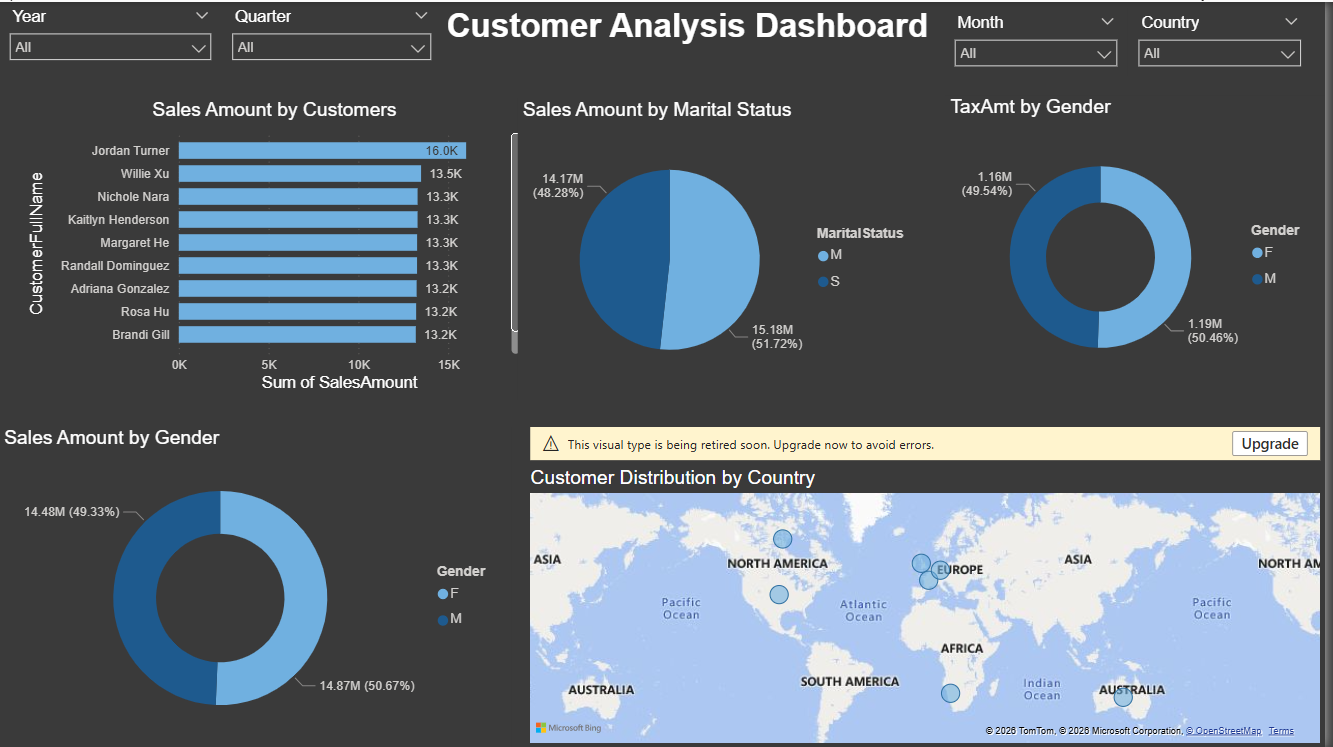

This screenshot's page, from the dashboard's own definition file:
{"tool":"powerbi","page":{"name":"Customer analysis Dashboard","canvas":[1280,720],"ordinal":1},"visuals":[{"type":"barChart","title":"Sales Amount by Customers","fields":{"Category":["Sales.CustomerFullName"],"Y":["Sum(Sales.SalesAmount)"]},"box":[24.4,93.1,483.7,288.4],"z":0},{"type":"donutChart","title":"Sales Amount by Gender","fields":{"Y":["Sum(Sales.SalesAmount)"],"Category":["Dimcustomer.Gender"]},"box":[0,410.5,494.4,309.8],"z":1000},{"type":"pieChart","title":" Sales Amount by Marital Status","fields":{"Y":["Sum(Sales.SalesAmount)"],"Category":["Dimcustomer.MaritalStatus"]},"box":[500.5,93.1,393.7,291.5],"z":2000},{"type":"map","title":"Customer Distribution by Country","fields":{"Category":["DimSalesTerritory.SalesTerritoryCountry"],"Size":["CountNonNull(Dimcustomer.CustomerKey)"]},"box":[508.2,410.5,772.2,309.8],"z":3000},{"type":"textbox","box":[427.3,0,485.3,48.8],"z":4000},{"type":"donutChart","title":" TaxAmt by Gender","fields":{"Category":["Dimcustomer.Gender"],"Y":["Sum(Sales.TaxAmt)"]},"box":[913,90,367,291],"z":5000},{"type":"slicer","fields":{"Values":["Sales.YearMonth.Variation.Date Hierarchy.Year"]},"box":[0,0,215.2,71.7],"z":6000},{"type":"slicer","fields":{"Values":["Sales.OrderDate.Variation.Date Hierarchy.Quarter"]},"box":[215.2,0,212.1,71.7],"z":7000},{"type":"slicer","fields":{"Values":["Sales.OrderDate.Variation.Date Hierarchy.Month"]},"box":[912.5,6.1,177,61],"z":8000},{"type":"slicer","fields":{"Values":["DimSalesTerritory.SalesTerritoryCountry"]},"box":[1089.6,6.1,177,65.6],"z":9000}]}

Visuals, with their boxes in screenshot pixels (x1, y1, x2, y2), scaled from the page's 1280x720 canvas onto the 1333x747 screenshot:
"Sales Amount by Customers" barChart: box=[25, 97, 529, 396]
"Sales Amount by Gender" donutChart: box=[0, 426, 515, 746]
" Sales Amount by Marital Status" pieChart: box=[521, 97, 931, 399]
"Customer Distribution by Country" map: box=[529, 426, 1332, 746]
textbox: box=[445, 0, 950, 51]
" TaxAmt by Gender" donutChart: box=[951, 93, 1332, 395]
slicer - Sales.YearMonth.Variation.Date Hierarchy.Year: box=[0, 0, 224, 74]
slicer - Sales.OrderDate.Variation.Date Hierarchy.Quarter: box=[224, 0, 445, 74]
slicer - Sales.OrderDate.Variation.Date Hierarchy.Month: box=[950, 6, 1135, 70]
slicer - DimSalesTerritory.SalesTerritoryCountry: box=[1135, 6, 1319, 74]
